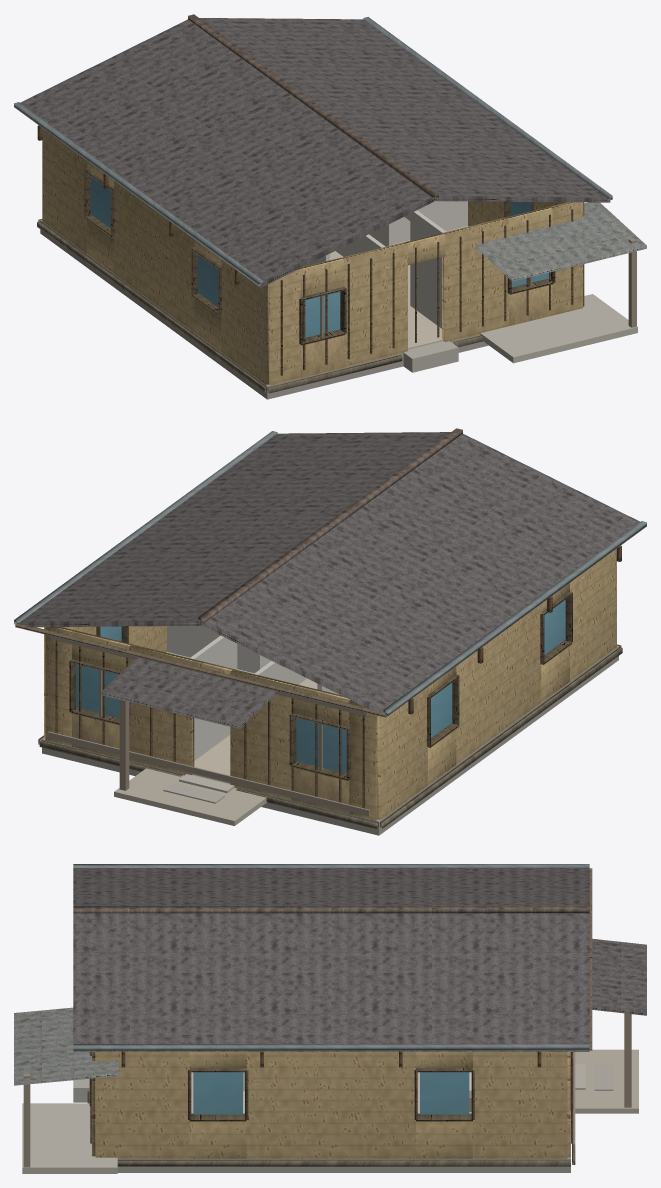
File: HAB_250_Z2_R14_ALBEDO_OTIM_CANDIDATO.gltf
The picture shows the model from 3 angles, top to bottom: view 1: azimuth 30°, elevation 25°; view 2: azimuth 150°, elevation 25°; view 3: azimuth 270°, elevation 25°; orthographic projection. The views are drawn at different scales.
Parts seen in each view (by area): view 1: HAB_250_COBERTURA_AGUA_O, HAB_250_COBERTURA_AGUA_L, HAB_250_LATERAL_O_PAREDE_1, HAB_250_AREA_SERVICO_COBERTURA, HAB_250_FACHADA_FUNDOS_PAREDE_1, HAB_250_FACHADA_FUNDOS_PAREDE_2, HAB_250_AREA_SERVICO_PISO, HAB_250_LATERAL_O_PAREDE_FINAL, HAB_250_LATERAL_O_PAREDE_0, HAB_250_FACHADA_FUNDOS_PAREDE_0, HAB_250_FUNDACAO, HAB_250_REV26_ARREMATE_EMBASAMENTO (+20 smaller); view 2: HAB_250_COBERTURA_AGUA_O, HAB_250_COBERTURA_AGUA_L, HAB_250_LATERAL_O_PAREDE_1, HAB_250_VARANDA_COBERTURA, HAB_250_LATERAL_O_PAREDE_0, HAB_250_FACHADA_FRONTAL_PAREDE_1, HAB_250_LATERAL_O_PAREDE_FINAL, HAB_250_FUNDACAO, HAB_250_VARANDA_PLATAFORMA, HAB_250_REV26_ARREMATE_EMBASAMENTO, HAB_250_FACHADA_FRONTAL_PAREDE_2, HAB_250_COBERTURA_CUMEEIRA (+23 smaller); view 3: HAB_250_COBERTURA_AGUA_L, HAB_250_COBERTURA_AGUA_O, HAB_250_LATERAL_L_PAREDE_1, HAB_250_LATERAL_L_PAREDE_0, HAB_250_LATERAL_L_PAREDE_FINAL, HAB_250_AREA_SERVICO_COBERTURA, HAB_250_AREA_SERVICO_PISO, HAB_250_FUNDACAO, HAB_250_COBERTURA_CUMEEIRA, HAB_250_VARANDA_COBERTURA, HAB_250_COBERTURA_CALHA_L, HAB_250_REV26_ARREMATE_EMBASAMENTO (+13 smaller).
Part boxes in pixels (bbox=[...]): HAB_250_COBERTURA_AGUA_O: bbox=[20, 19, 435, 287]; HAB_250_COBERTURA_AGUA_L: bbox=[199, 18, 610, 202]; HAB_250_LATERAL_O_PAREDE_1: bbox=[114, 180, 194, 332]; HAB_250_AREA_SERVICO_COBERTURA: bbox=[475, 202, 646, 281]; HAB_250_FACHADA_FUNDOS_PAREDE_1: bbox=[341, 242, 407, 367]; HAB_250_FACHADA_FUNDOS_PAREDE_2: bbox=[442, 217, 508, 341]; HAB_250_AREA_SERVICO_PISO: bbox=[480, 294, 637, 363]; HAB_250_LATERAL_O_PAREDE_FINAL: bbox=[221, 259, 268, 384]; HAB_250_LATERAL_O_PAREDE_0: bbox=[42, 128, 86, 253]; HAB_250_FACHADA_FUNDOS_PAREDE_0: bbox=[268, 269, 300, 385]; HAB_250_FUNDACAO: bbox=[40, 220, 488, 399]; HAB_250_REV26_ARREMATE_EMBASAMENTO: bbox=[37, 219, 482, 393]; HAB_250_COBERTURA_AGUA_O: bbox=[201, 434, 640, 717]; HAB_250_COBERTURA_AGUA_L: bbox=[16, 432, 450, 627]; HAB_250_LATERAL_O_PAREDE_1: bbox=[456, 604, 541, 764]; HAB_250_VARANDA_COBERTURA: bbox=[101, 657, 275, 728]; HAB_250_LATERAL_O_PAREDE_0: bbox=[377, 687, 427, 820]; HAB_250_FACHADA_FRONTAL_PAREDE_1: bbox=[230, 669, 295, 800]; HAB_250_LATERAL_O_PAREDE_FINAL: bbox=[570, 549, 616, 681]; HAB_250_FUNDACAO: bbox=[42, 646, 618, 835]; HAB_250_VARANDA_PLATAFORMA: bbox=[114, 768, 266, 825]; HAB_250_REV26_ARREMATE_EMBASAMENTO: bbox=[38, 644, 622, 828]; HAB_250_FACHADA_FRONTAL_PAREDE_2: bbox=[129, 644, 194, 775]; HAB_250_COBERTURA_CUMEEIRA: bbox=[198, 428, 462, 623]; HAB_250_COBERTURA_AGUA_L: bbox=[73, 913, 589, 1051]; HAB_250_COBERTURA_AGUA_O: bbox=[73, 868, 589, 906]; HAB_250_LATERAL_L_PAREDE_1: bbox=[246, 1052, 415, 1158]; HAB_250_LATERAL_L_PAREDE_0: bbox=[473, 1052, 567, 1158]; HAB_250_LATERAL_L_PAREDE_FINAL: bbox=[95, 1052, 189, 1158]; HAB_250_AREA_SERVICO_COBERTURA: bbox=[14, 1007, 118, 1085]; HAB_250_AREA_SERVICO_PISO: bbox=[22, 1103, 117, 1173]; HAB_250_FUNDACAO: bbox=[117, 1110, 570, 1172]; HAB_250_COBERTURA_CUMEEIRA: bbox=[73, 906, 589, 913]; HAB_250_VARANDA_COBERTURA: bbox=[592, 938, 646, 1015]; HAB_250_COBERTURA_CALHA_L: bbox=[73, 1044, 589, 1050]; HAB_250_REV26_ARREMATE_EMBASAMENTO: bbox=[87, 1091, 575, 1166].
Size of the model in its own units: 9.48 by 4.36 by 13.66.
12 materials, 12 textured.
